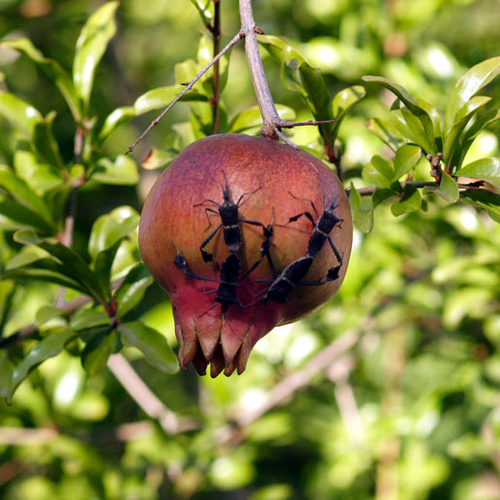pomogranate: (140, 131, 353, 377)
